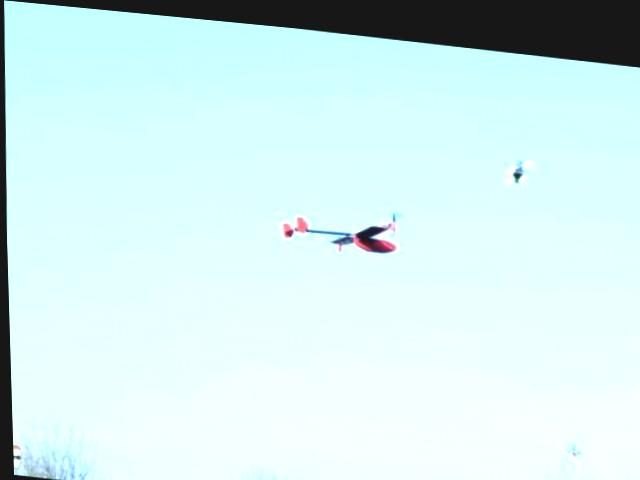uav: (280, 192, 405, 256)
